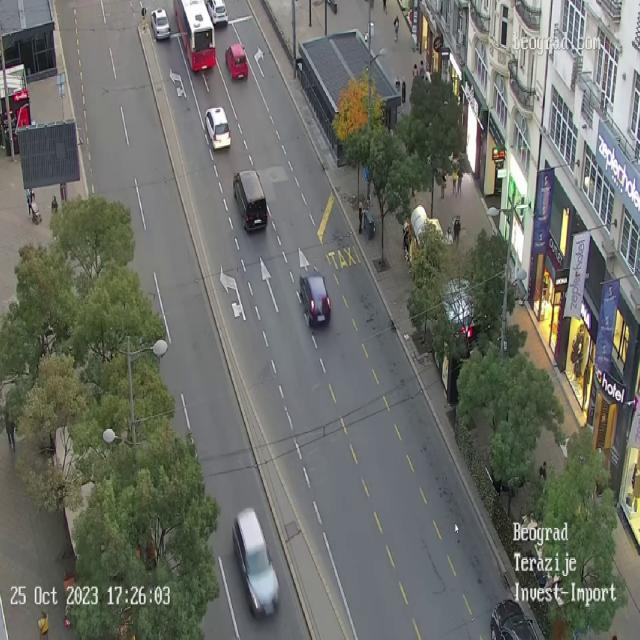bus: (173, 0, 216, 72)
car: (232, 507, 279, 619), (232, 168, 268, 232), (490, 598, 538, 640), (299, 274, 331, 328), (204, 106, 231, 151), (225, 43, 248, 80), (150, 8, 170, 41), (205, 0, 227, 27)
